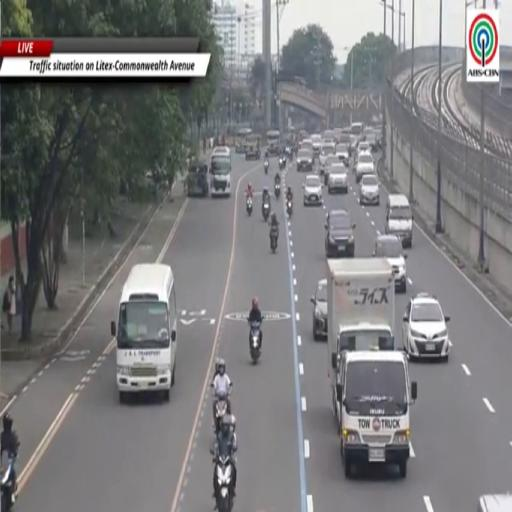bus: (210, 148, 231, 196), (267, 131, 280, 155)
car: (403, 294, 449, 361), (374, 234, 407, 293), (325, 210, 355, 258), (310, 278, 328, 342), (328, 163, 348, 194), (355, 153, 375, 183), (303, 174, 322, 205), (360, 174, 379, 205), (477, 494, 511, 511), (320, 155, 338, 185), (319, 142, 335, 173), (297, 149, 313, 171), (336, 143, 349, 166), (367, 132, 378, 152), (311, 134, 321, 156), (300, 138, 312, 153), (358, 141, 371, 153), (322, 130, 335, 142), (212, 147, 230, 155), (333, 127, 342, 142)
jeepney: (187, 160, 208, 197), (245, 134, 260, 159), (236, 128, 251, 153)
motorcycle: (216, 456, 233, 511), (0, 454, 16, 511), (214, 392, 227, 435), (249, 323, 261, 363), (270, 228, 278, 253), (262, 201, 270, 220), (246, 196, 253, 216), (286, 198, 293, 218), (274, 183, 281, 198), (279, 156, 285, 170), (264, 160, 269, 174)
truck: (334, 351, 417, 477), (327, 258, 395, 395)
